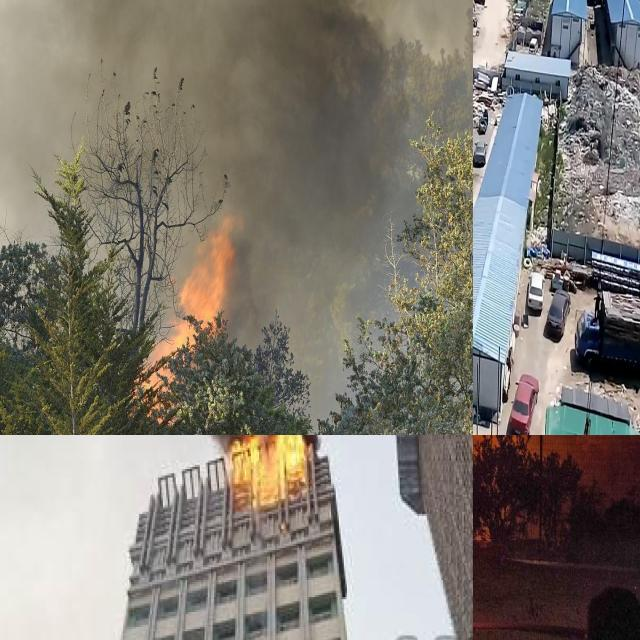fire: (135, 215, 239, 425), (224, 435, 307, 501)
smoke: (0, 0, 473, 352)
